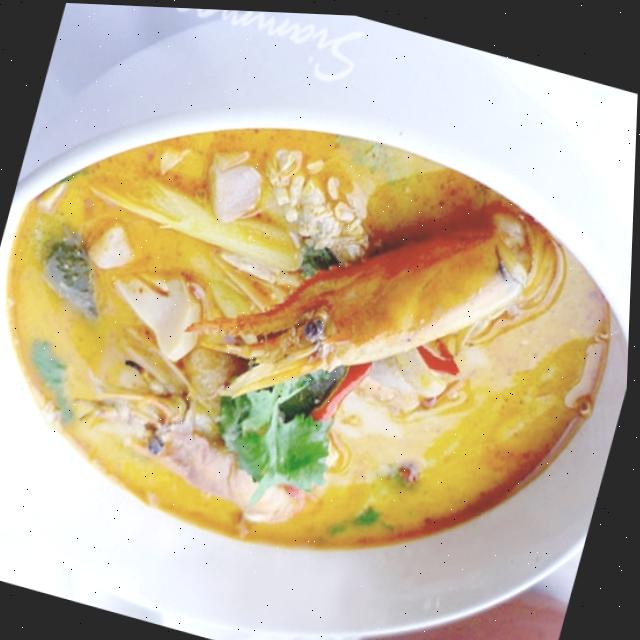汤锅炖物: (25, 116, 590, 603)
